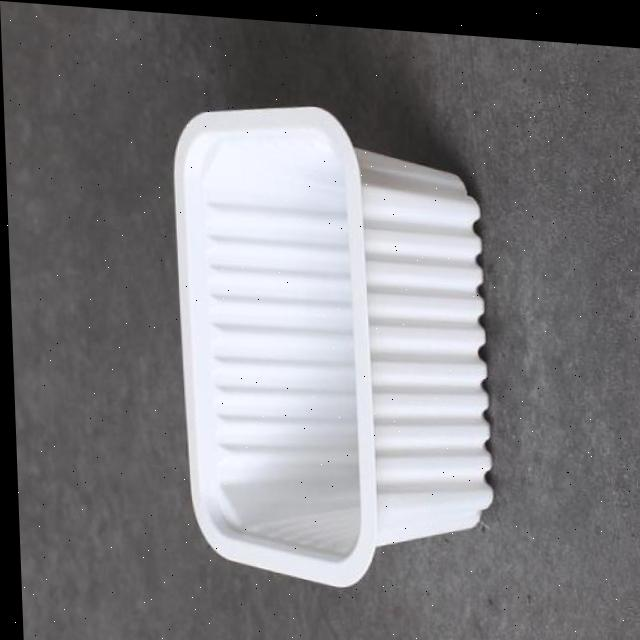disposable: (155, 70, 509, 612)
